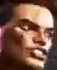kevin: (3, 0, 55, 69)
